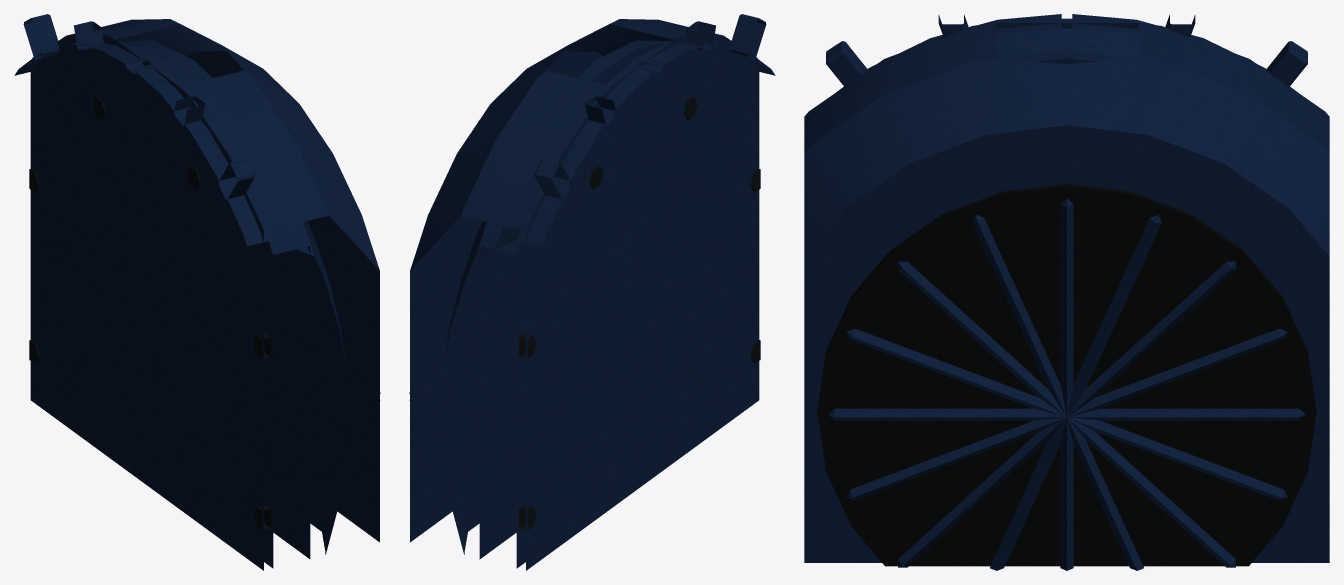
File: cell_29.obj
3 views of the same model, side by side, from view 1: azimuth 30°, elevation 25°; view 2: azimuth 150°, elevation 25°; view 3: azimuth 270°, elevation 25° (orthographic). The views are drawn at different scales.
Visible parts, largest first — view 1: cell_29; view 2: cell_29; view 3: cell_29.
Boxes of the visible parts, <box> form: cell_29: <box>14,14,380,570</box>; cell_29: <box>409,14,775,570</box>; cell_29: <box>804,14,1329,570</box>.
Size of the model in its own units: 0.3644 by 1 by 1.
